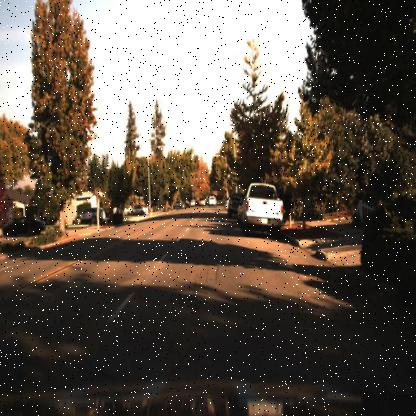car: (240, 181, 286, 240), (70, 201, 111, 227), (5, 215, 46, 233), (75, 204, 106, 224)
